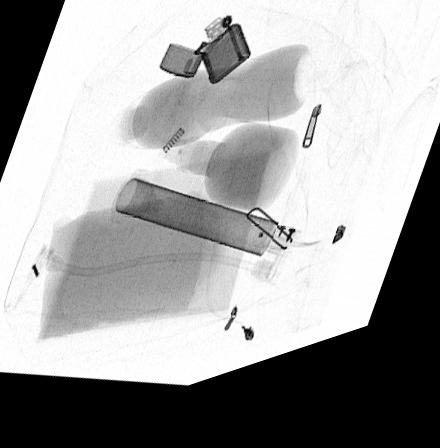Lighter: (157, 30, 250, 98)
